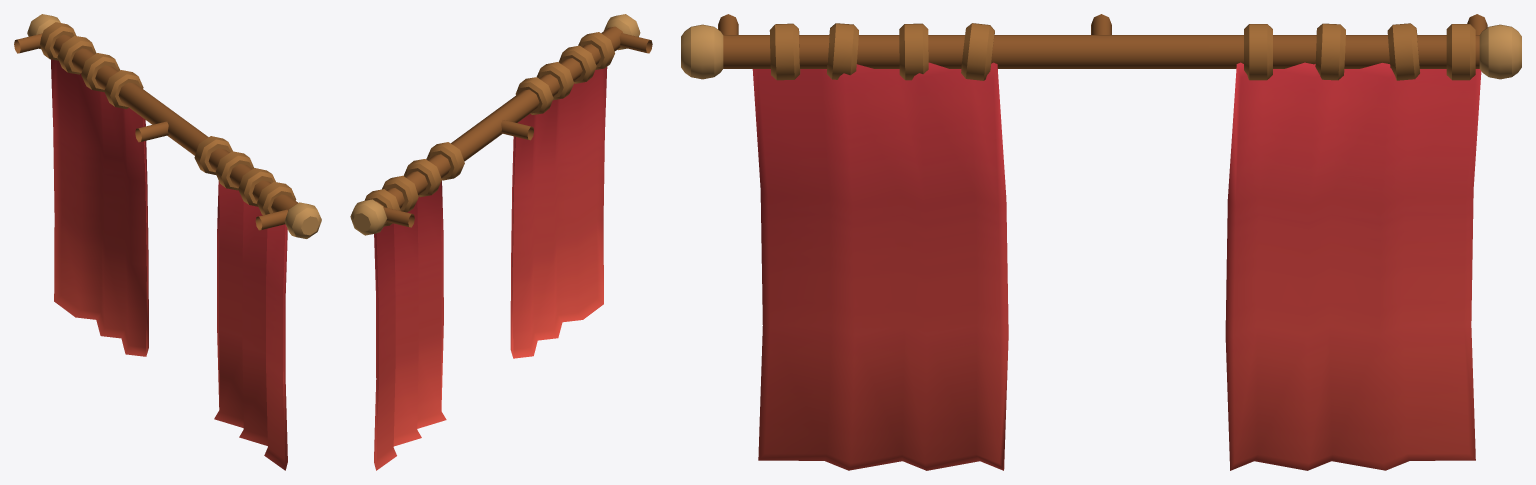
Rendered from Curtains_Long_2_D_E.glb.
3 views of the same model, side by side, from view 1: azimuth 30°, elevation 25°; view 2: azimuth 150°, elevation 25°; view 3: azimuth 270°, elevation 25° (orthographic). The views are drawn at different scales.
Visible parts, largest first — view 1: Curtains_Long_2_D_E; view 2: Curtains_Long_2_D_E; view 3: Curtains_Long_2_D_E.
Boxes of the visible parts, x1,y1,x2,y2 form: Curtains_Long_2_D_E: [14, 14, 321, 470]; Curtains_Long_2_D_E: [350, 14, 652, 470]; Curtains_Long_2_D_E: [681, 14, 1521, 470].
Bounding box in the file's own units: 0.2288 × 1.16 × 2.02.
Materials: 1 (1 with a texture image).
